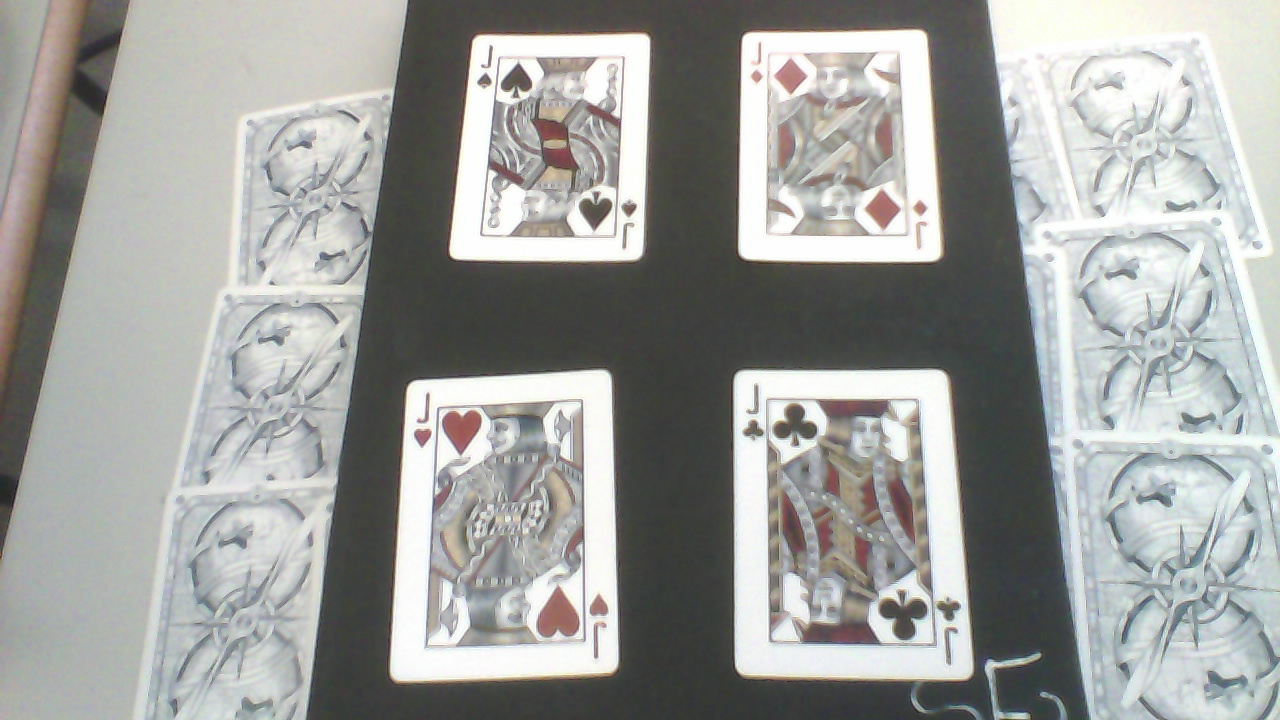jack_clubs: (737, 375, 978, 686)
jack_diamonds: (744, 35, 949, 268)
jack_hearts: (401, 373, 622, 683)
jack_spades: (473, 40, 651, 266)
